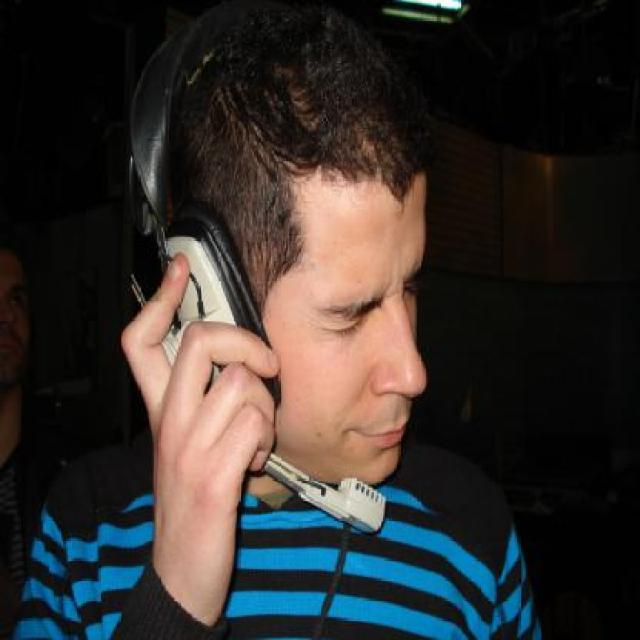earphone: (120, 32, 273, 410)
